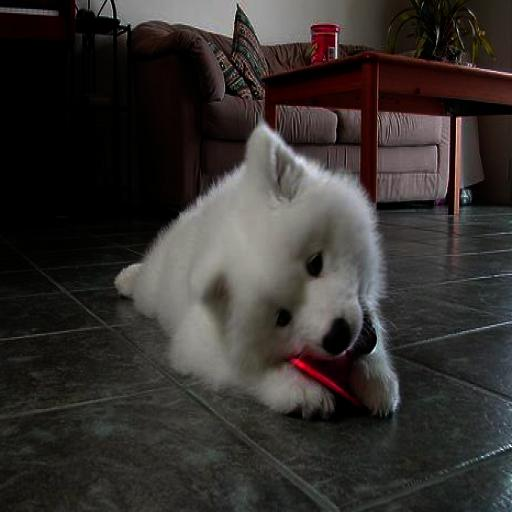dog_face: (204, 157, 379, 362)
